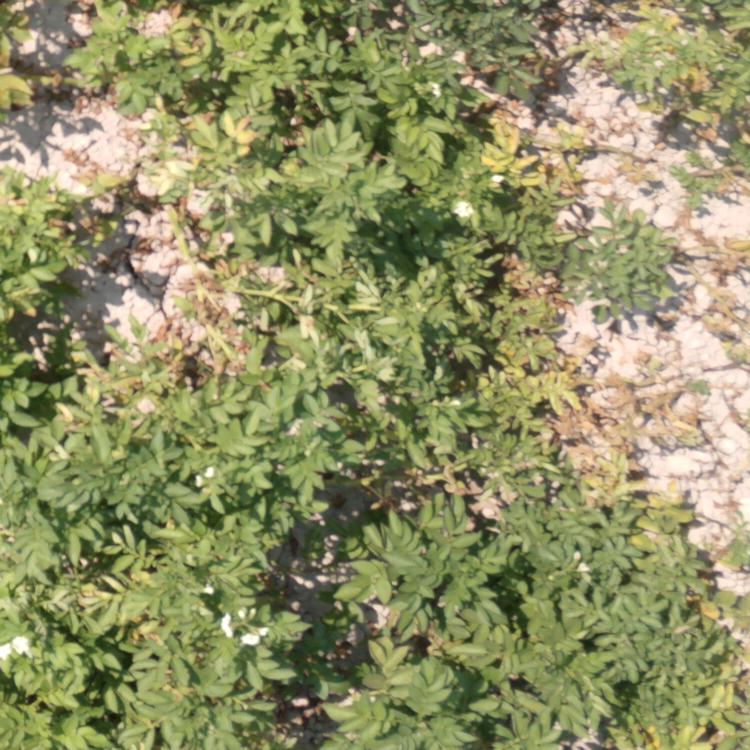healthy: (1, 589, 741, 747), (1, 383, 475, 580), (571, 223, 688, 339)
stressed: (1, 1, 365, 141), (483, 392, 747, 582), (206, 153, 407, 386), (384, 1, 559, 202), (1, 146, 129, 382), (425, 206, 566, 378), (592, 8, 750, 146)
